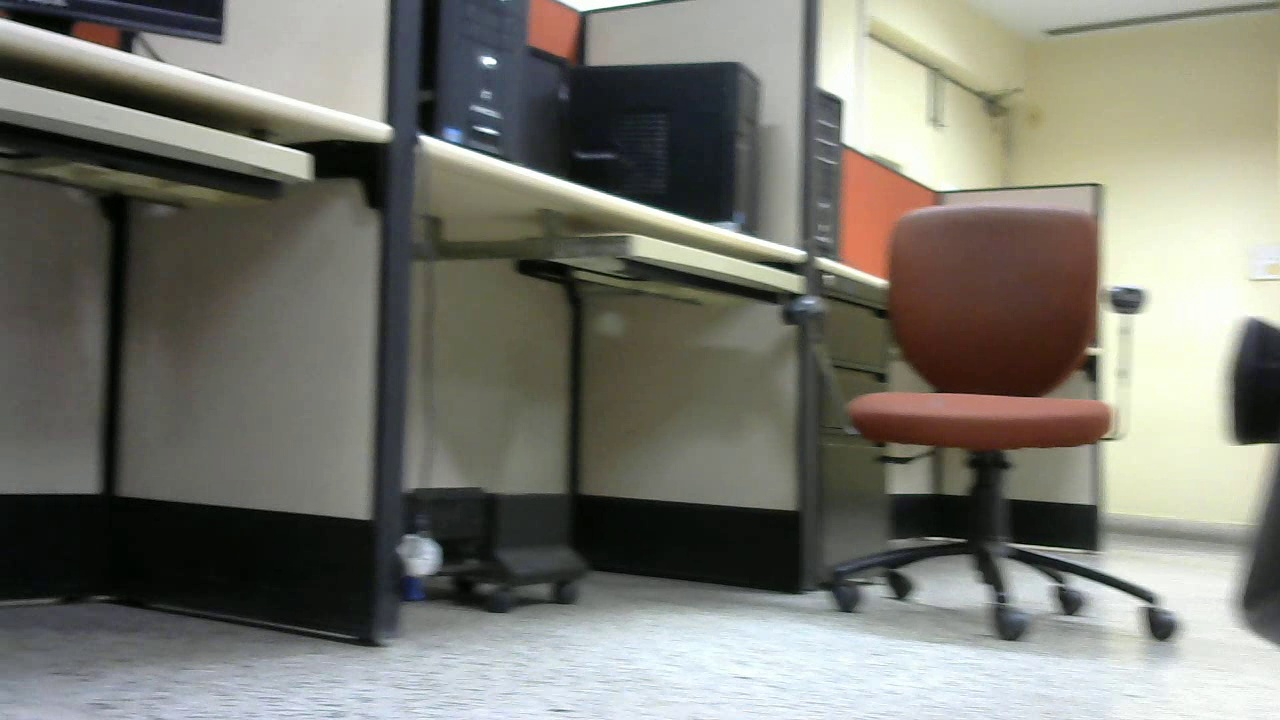chair: (767, 190, 1204, 664)
